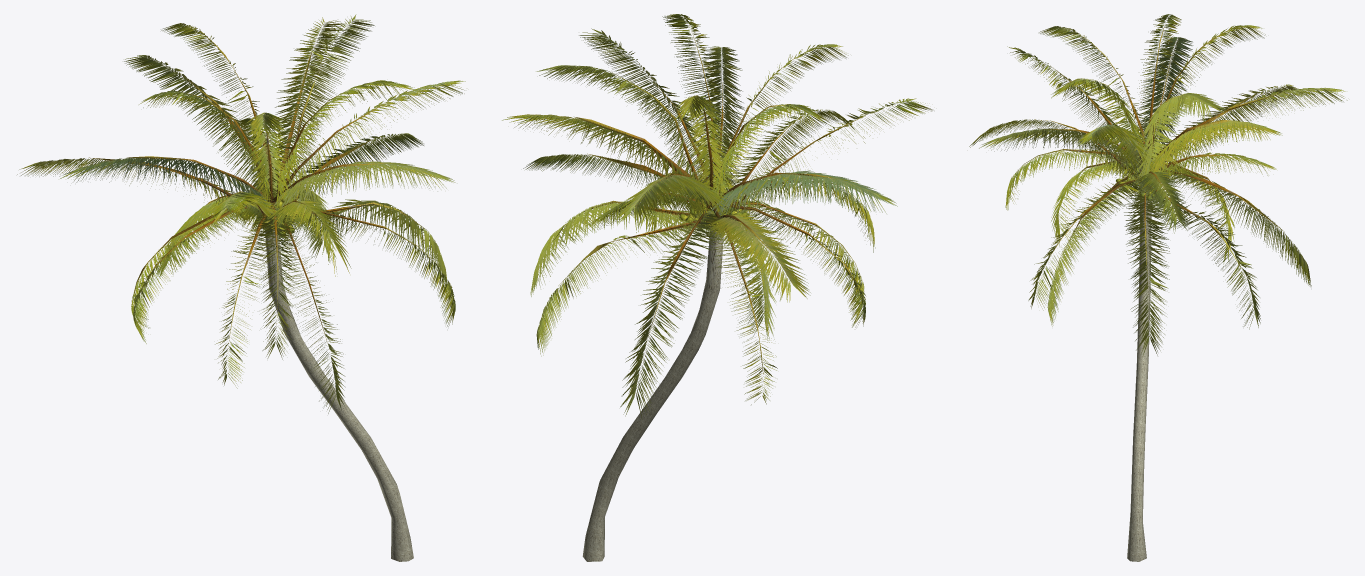
File: coconutTreeBended_20k.gltf
3 renders of one model, left to right at view 1: azimuth 30°, elevation 25°; view 2: azimuth 150°, elevation 25°; view 3: azimuth 270°, elevation 25°, orthographic. The views are drawn at different scales.
Parts seen in each view (by area): view 1: coconutTreeBended_20k; view 2: coconutTreeBended_20k; view 3: coconutTreeBended_20k.
Boxes of the visible parts, box(x1,y1,x2,y2) form: coconutTreeBended_20k: box(17, 14, 465, 561); coconutTreeBended_20k: box(502, 14, 932, 561); coconutTreeBended_20k: box(969, 14, 1347, 561).
Bounding box in the file's own units: 7.3 × 10 × 7.47.
3 materials, 3 textured.
